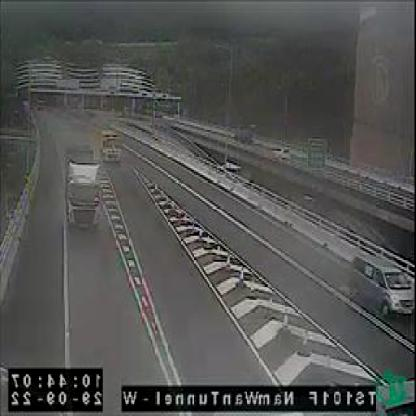Car: (347, 246, 416, 324)
Truck: (65, 144, 103, 230), (94, 114, 124, 165)
